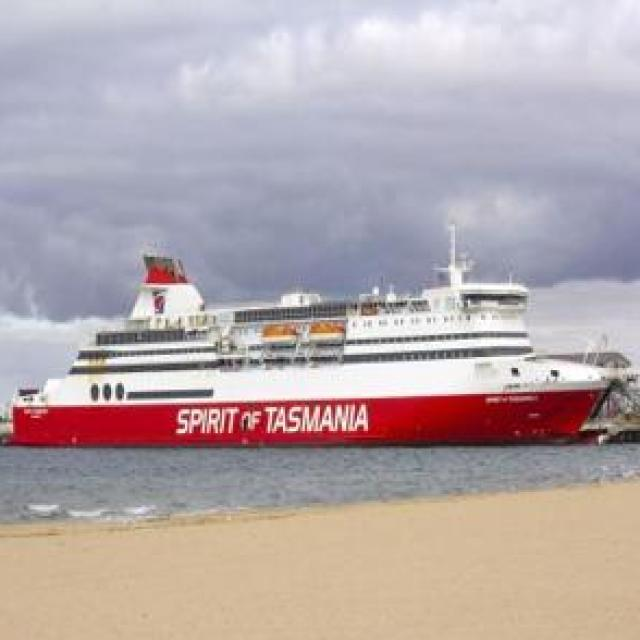passenger ship: (12, 231, 602, 444)
